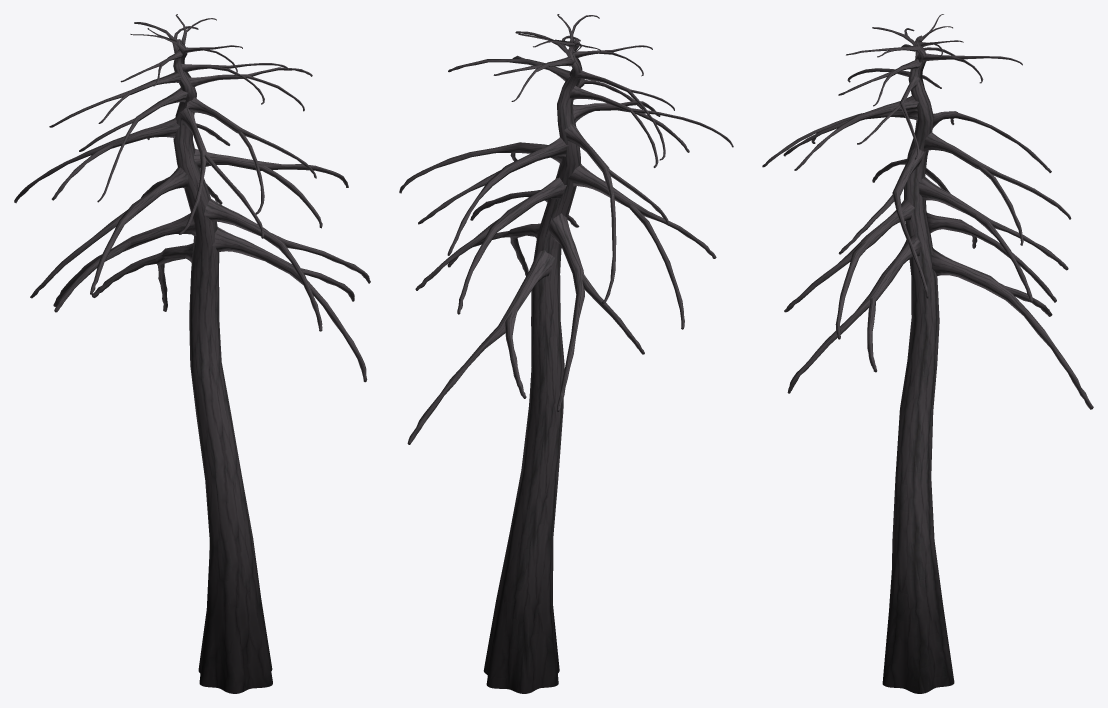
Rendered from driftwood_dead_tree.glb.
3 views of the same model, side by side, from view 1: azimuth 30°, elevation 25°; view 2: azimuth 150°, elevation 25°; view 3: azimuth 270°, elevation 25° (orthographic). The views are drawn at different scales.
Visible parts, largest first — view 1: DeadTree_3; view 2: DeadTree_3; view 3: DeadTree_3.
Part boxes in pixels (bbox=[...]): DeadTree_3: bbox=[14, 14, 370, 693]; DeadTree_3: bbox=[399, 14, 733, 693]; DeadTree_3: bbox=[762, 14, 1093, 693].
Bounding box in the file's own units: 6.39 × 13.28 × 6.43.
Materials: 1 (1 with a texture image).
